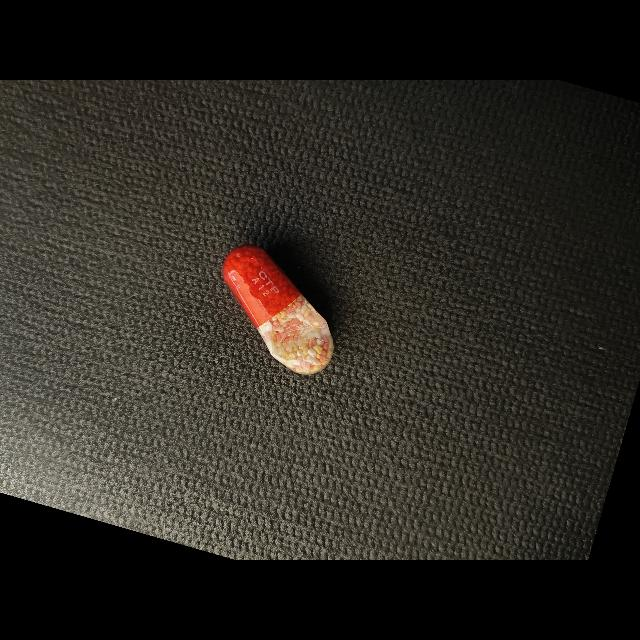Defective Capsule: (223, 245, 334, 375)
